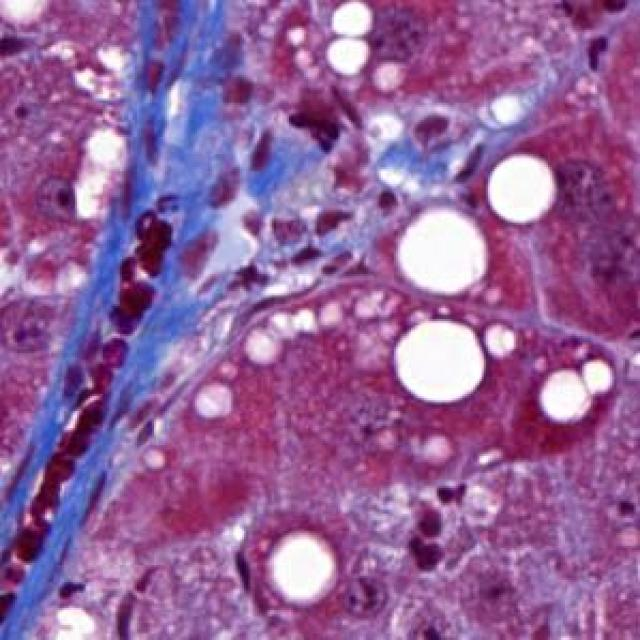inflammation: (257, 199, 359, 270), (396, 499, 462, 578), (282, 96, 346, 158)
